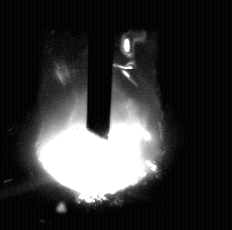arame: (87, 0, 112, 139)
poca: (35, 0, 163, 230)
